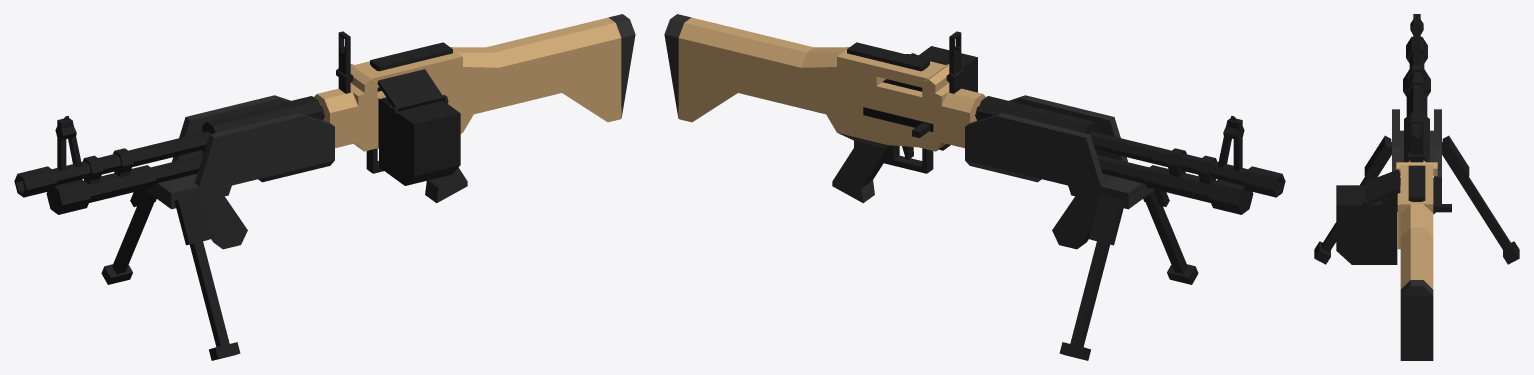
The picture shows the model from 3 angles, left to right: view 1: azimuth 30°, elevation 25°; view 2: azimuth 150°, elevation 25°; view 3: azimuth 270°, elevation 25°; orthographic projection. The views are drawn at different scales.
Parts seen in each view (by area): view 1: body.013, grip.002, barrel, ammo_box, cover, bipod.002, bipod.001, module.008, ammo_box_cover, rail.009, sight_front.014, sight_rear.014; view 2: body.013, grip.002, barrel, cover, bipod.001, bipod.002, module.008, rail.009, ammo_box, sight_front.014, trigger_guard.007, holes.006 (+1 smaller); view 3: ammo_box, body.013, cover, bipod.001, barrel, grip.002, bipod.002, ammo_box_cover, module.008, rail.009, sight_front.014, sight_rear.014 (+1 smaller).
Boxes of the visible parts, x1=… form: body.013: x1=314, y1=14, x2=635, y2=203; grip.002: x1=145, y1=95, x2=334, y2=249; barrel: x1=14, y1=106, x2=324, y2=214; ammo_box: x1=379, y1=95, x2=460, y2=185; cover: x1=350, y1=28, x2=578, y2=94; bipod.002: x1=174, y1=194, x2=240, y2=360; bipod.001: x1=101, y1=189, x2=156, y2=284; module.008: x1=202, y1=96, x2=322, y2=154; ammo_box_cover: x1=377, y1=69, x2=443, y2=111; rail.009: x1=370, y1=42, x2=452, y2=71; sight_front.014: x1=55, y1=116, x2=81, y2=170; sight_rear.014: x1=338, y1=31, x2=350, y2=75; body.013: x1=664, y1=14, x2=985, y2=203; grip.002: x1=965, y1=95, x2=1154, y2=249; barrel: x1=975, y1=106, x2=1285, y2=214; cover: x1=721, y1=28, x2=949, y2=94; bipod.001: x1=1059, y1=194, x2=1125, y2=360; bipod.002: x1=1143, y1=189, x2=1198, y2=284; module.008: x1=977, y1=96, x2=1097, y2=154; rail.009: x1=847, y1=42, x2=929, y2=71; ammo_box: x1=911, y1=46, x2=977, y2=150; sight_front.014: x1=1218, y1=116, x2=1244, y2=170; trigger_guard.007: x1=880, y1=145, x2=933, y2=173; holes.006: x1=863, y1=107, x2=933, y2=131; ammo_box: x1=1336, y1=180, x2=1397, y2=264; body.013: x1=1400, y1=160, x2=1433, y2=360; cover: x1=1396, y1=162, x2=1437, y2=270; bipod.001: x1=1442, y1=135, x2=1519, y2=264; barrel: x1=1403, y1=36, x2=1430, y2=116; grip.002: x1=1392, y1=109, x2=1441, y2=214; bipod.002: x1=1314, y1=135, x2=1391, y2=264; ammo_box_cover: x1=1365, y1=169, x2=1400, y2=203; module.008: x1=1404, y1=112, x2=1429, y2=162; rail.009: x1=1408, y1=165, x2=1425, y2=201; sight_front.014: x1=1410, y1=14, x2=1423, y2=64; sight_rear.014: x1=1410, y1=119, x2=1423, y2=154.
Size of the model in its own units: 320 by 960 by 368.
